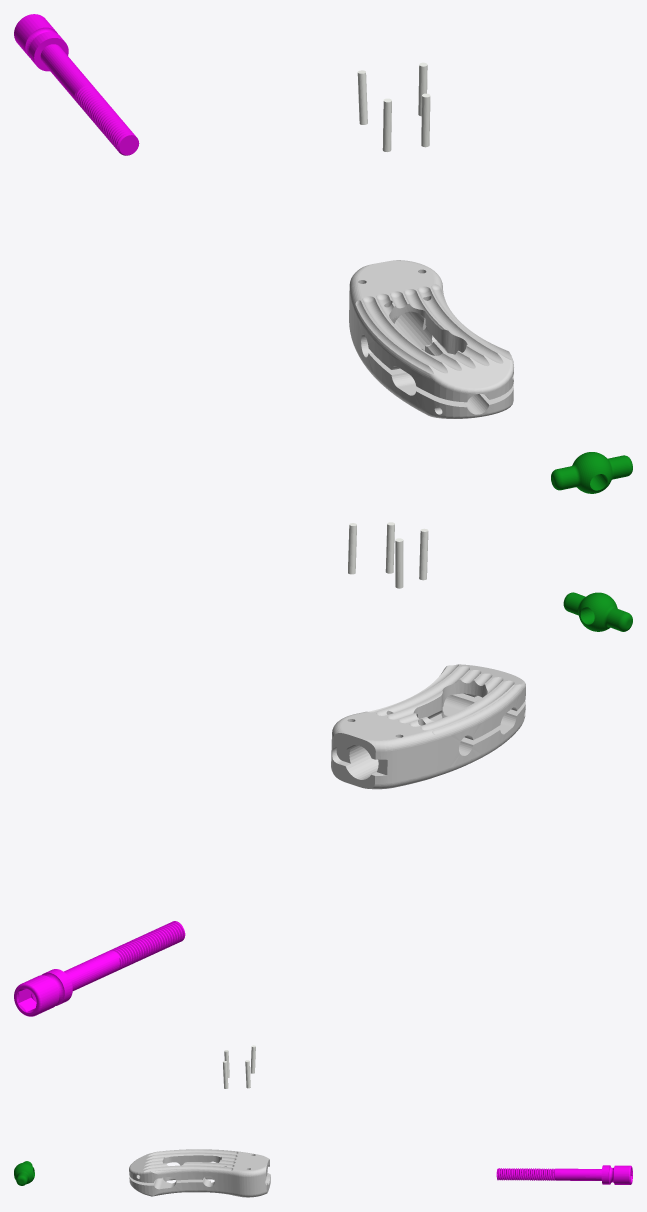
The model's file is sonhaliparca3.glb.
3 views of the same model, one above another, from view 1: azimuth 30°, elevation 25°; view 2: azimuth 150°, elevation 25°; view 3: azimuth 270°, elevation 25° (orthographic). The views are drawn at different scales.
Parts seen in each view (by area): view 1: BIOMECH EXPANDABLE TLIF CAGE, vida, baglanti parcasi.001; view 2: BIOMECH EXPANDABLE TLIF CAGE, vida, baglanti parcasi.001; view 3: BIOMECH EXPANDABLE TLIF CAGE, vida, baglanti parcasi.001.
Boxes of the visible parts, x1,y1,x2,y2 form: BIOMECH EXPANDABLE TLIF CAGE: (349,260,513,418); vida: (14,14,139,155); baglanti parcasi.001: (551,452,632,493); BIOMECH EXPANDABLE TLIF CAGE: (331,664,525,789); vida: (14,921,185,1016); baglanti parcasi.001: (563,592,632,631); BIOMECH EXPANDABLE TLIF CAGE: (129,1149,270,1197); vida: (496,1165,632,1184); baglanti parcasi.001: (14,1161,34,1185).
Size of the model in its own units: 13.56 by 31.65 by 128.
